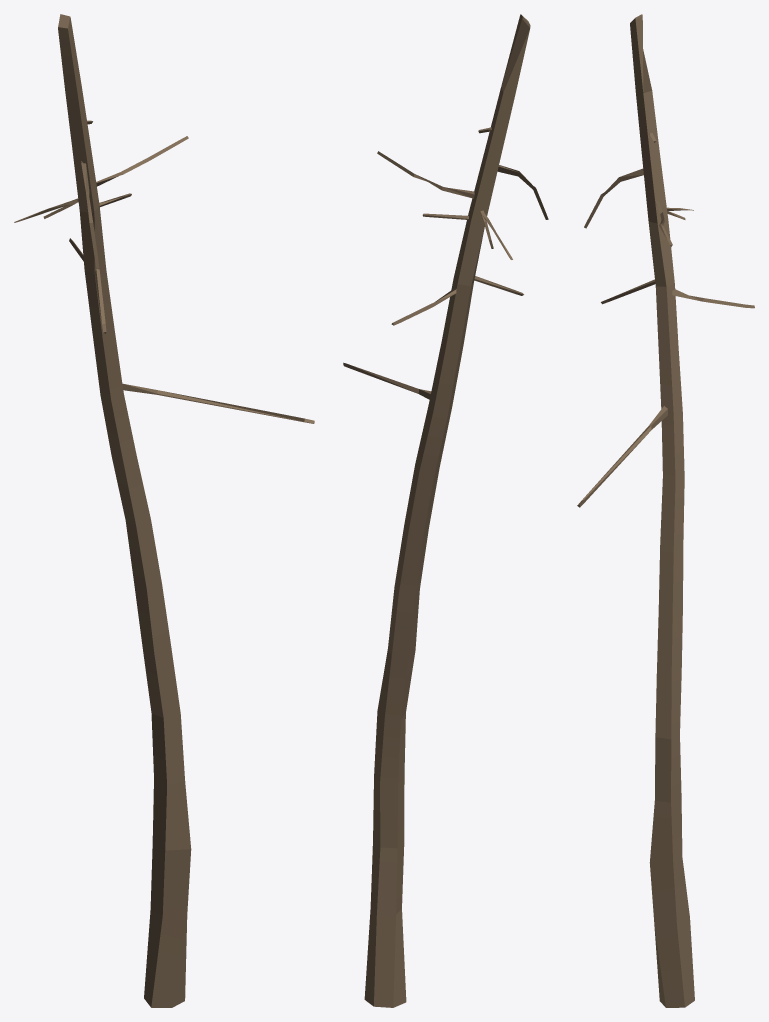
Rendered from pine_bare_13.FBX.
3 views of the same model, side by side, from view 1: azimuth 30°, elevation 25°; view 2: azimuth 150°, elevation 25°; view 3: azimuth 270°, elevation 25° (orthographic). The views are drawn at different scales.
Parts seen in each view (by area): view 1: pine_bare_13; view 2: pine_bare_13; view 3: pine_bare_13.
Part boxes in pixels (x1,y1,x2,y2): pine_bare_13: (14, 14, 314, 1007); pine_bare_13: (343, 14, 548, 1007); pine_bare_13: (577, 14, 754, 1007).
Size of the model in its own units: 1.77 by 7.34 by 1.27.
